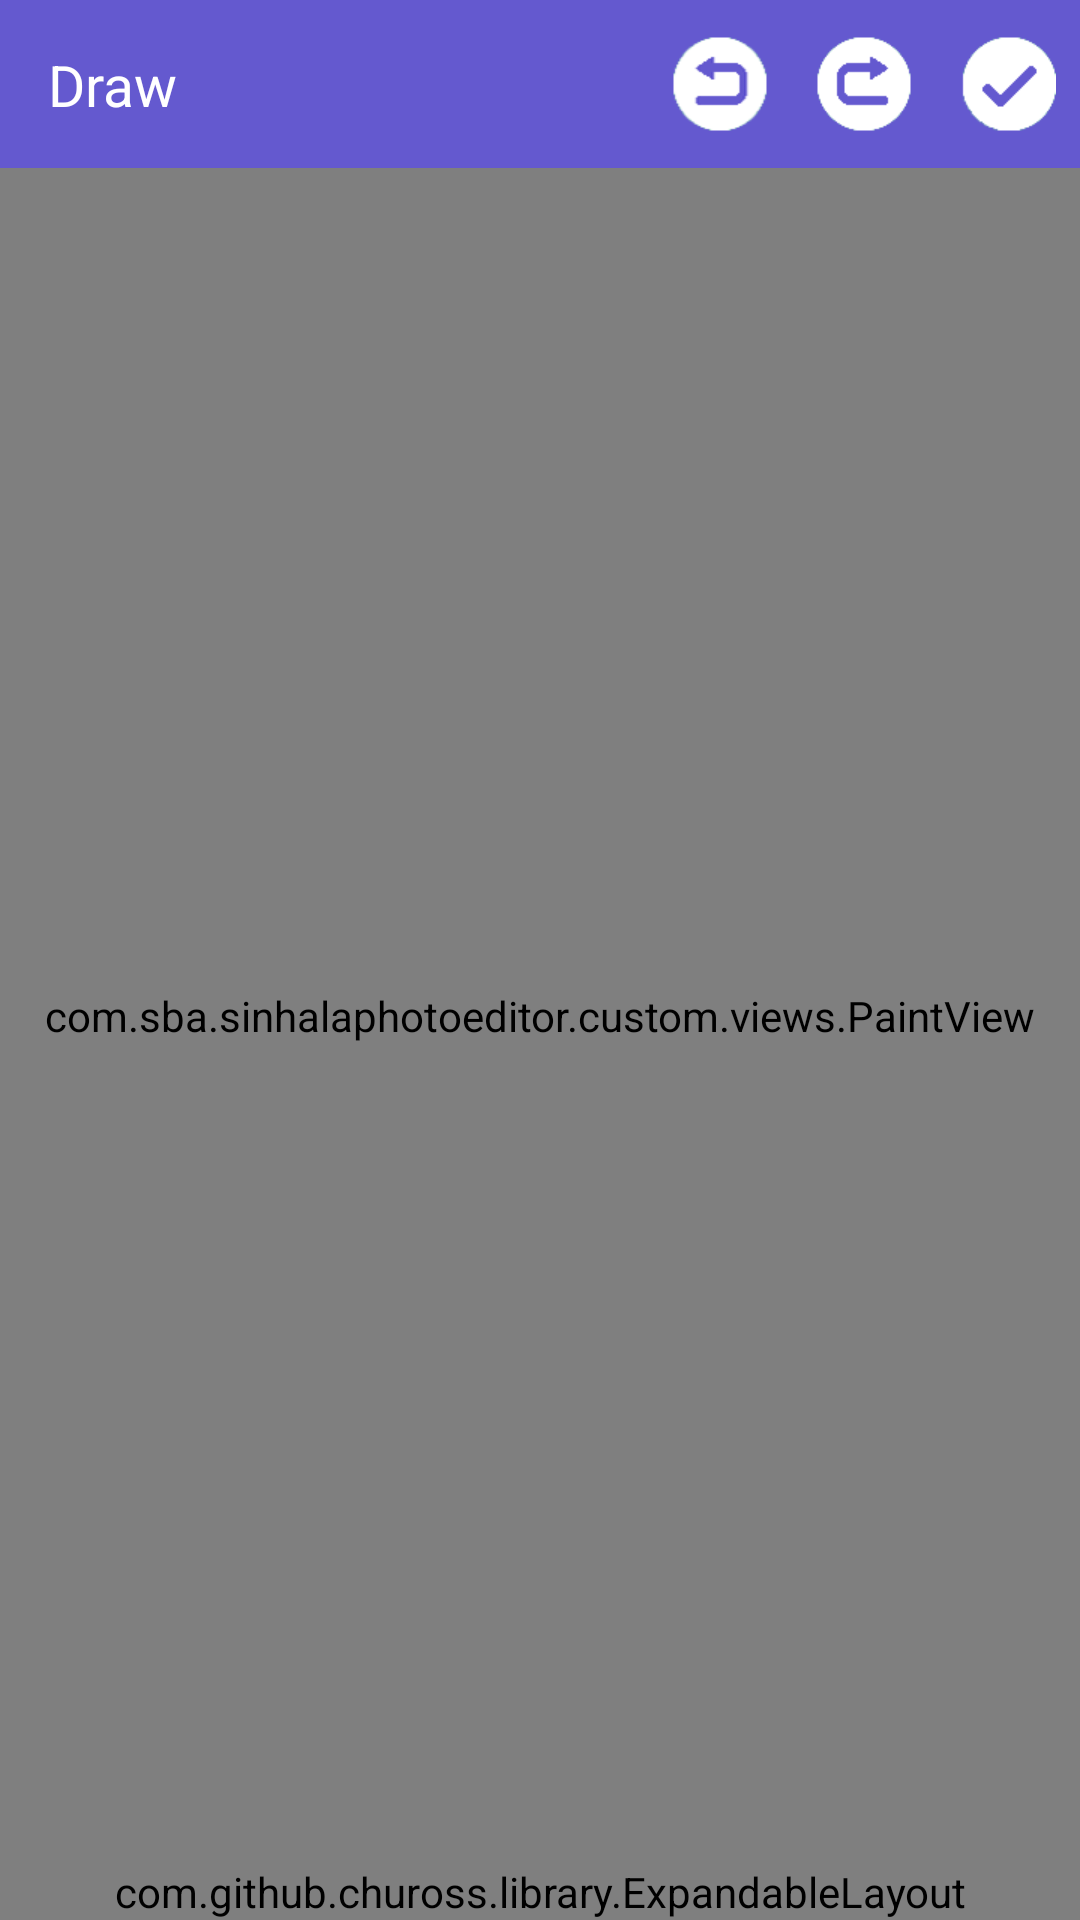

Icons on this 1080*1920 Android screen, each with its box as region(x1, y1, x2, y2):
redo: region(817, 37, 911, 131)
saveimage: region(962, 37, 1056, 131)
undo: region(673, 37, 767, 131)
